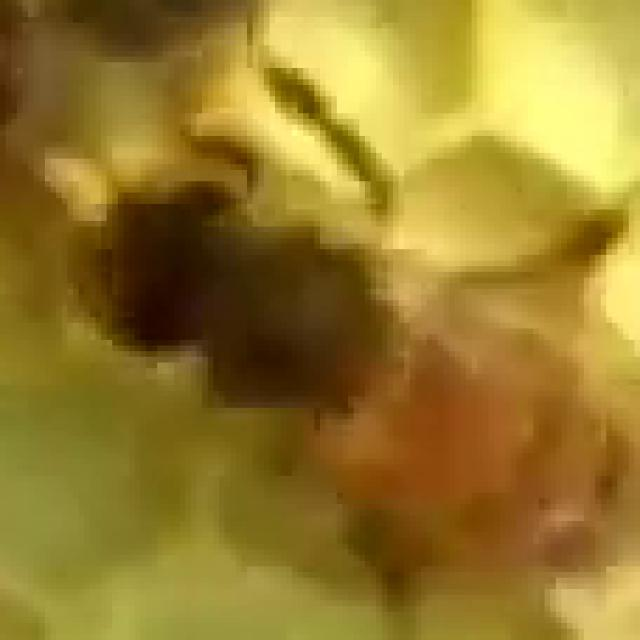honeybee: (90, 100, 621, 602)
